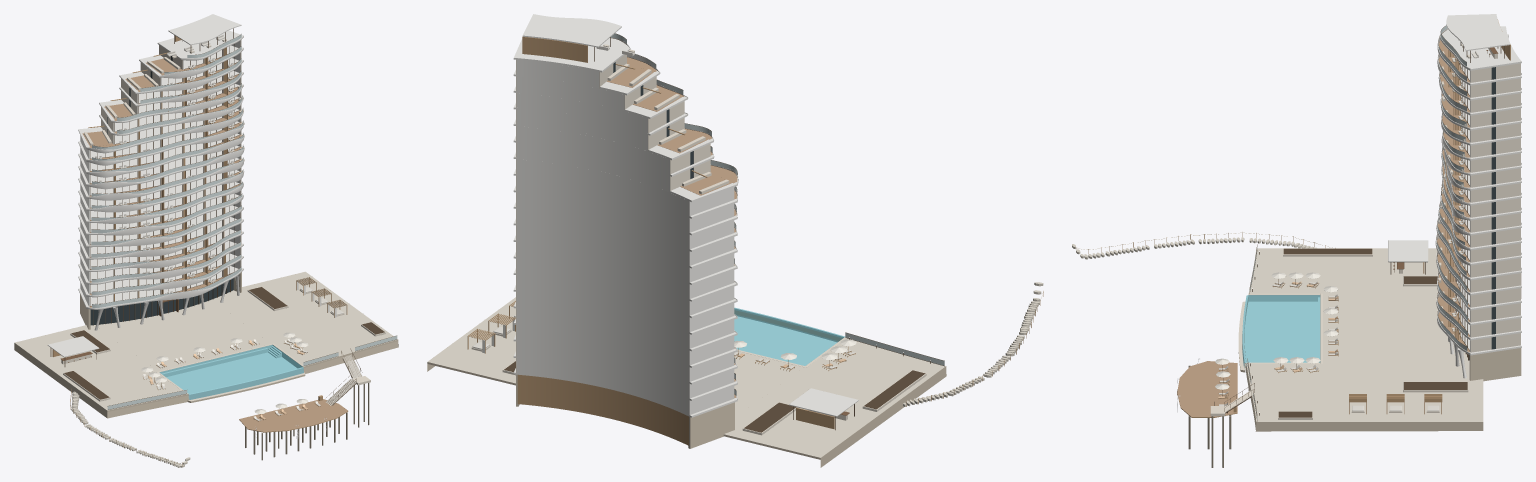
The model's file is hotel.glb.
3 views of the same model, side by side, from view 1: azimuth 30°, elevation 25°; view 2: azimuth 150°, elevation 25°; view 3: azimuth 270°, elevation 25° (orthographic). The views are drawn at different scales.
Visible parts, largest first — view 1: hotel_white, terrace, glass_rail, bronze, deck, pooltile, water, travertine, cladding, stone_wall, cushion, dark_glass (+3 smaller); view 2: hotel_white, terrace, cladding, travertine, stone_wall, water, pooltile, deck, soil, glass_rail; view 3: terrace, travertine, hotel_white, deck, pooltile, water, stone_wall, glass_rail, cladding, bronze, soil, dark_glass (+3 smaller).
Part boxes in pixels (x1,y1,x2,y2): hotel_white: (47,14,244,357); terrace: (15,271,397,467); glass_rail: (91,34,397,409); bronze: (50,28,396,409); deck: (82,57,347,431); pooltile: (159,344,303,399); water: (160,345,303,399); travertine: (61,39,385,420); cladding: (52,36,348,466); stone_wall: (14,272,398,418); cushion: (95,34,343,420); dark_glass: (90,56,233,325); hotel_white: (513,14,858,417); terrace: (427,282,1043,457); cladding: (467,36,1043,445); travertine: (471,44,926,444); stone_wall: (427,310,946,467); water: (734,308,844,365); pooltile: (734,307,844,365); deck: (606,57,737,397); soil: (504,361,925,432); glass_rail: (611,33,944,395); terrace: (1072,237,1483,421); travertine: (1210,44,1520,419); hotel_white: (1388,14,1521,378); deck: (1177,40,1469,416); pooltile: (1242,295,1320,367); water: (1242,295,1319,363); stone_wall: (1238,270,1521,431); glass_rail: (1247,25,1467,419); cladding: (1076,19,1510,417); bronze: (1214,26,1504,421); soil: (1278,248,1467,417); dark_glass: (1469,67,1495,360).
Size of the model in its own units: 90.14 by 88.82 by 89.76.
